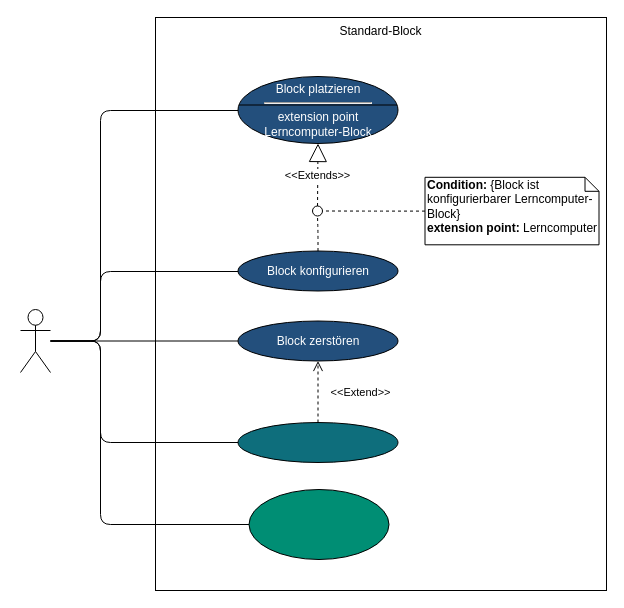
Image size: 624x608. Some labels were removed from this diagram. The centre of each missing label's shape, as x and y in pixels:
Craften: point 318,524
Drop(s) einsammeln: point 317,442
Spieler: point 35,340
